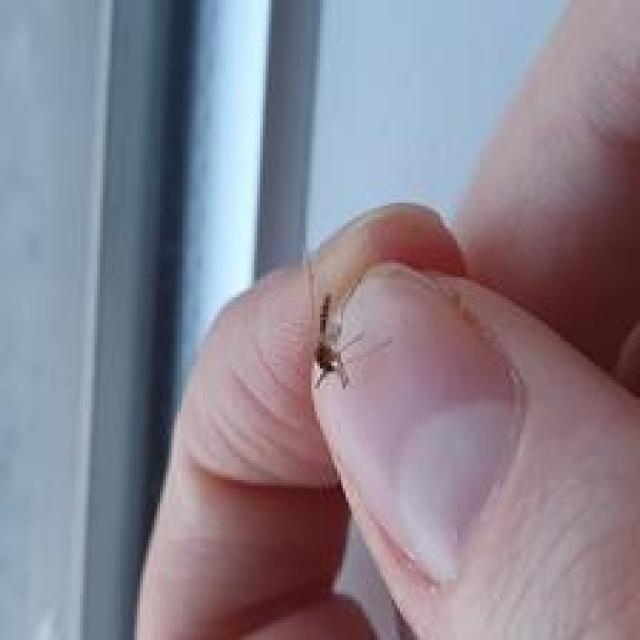Culex: (310, 290, 393, 390)
